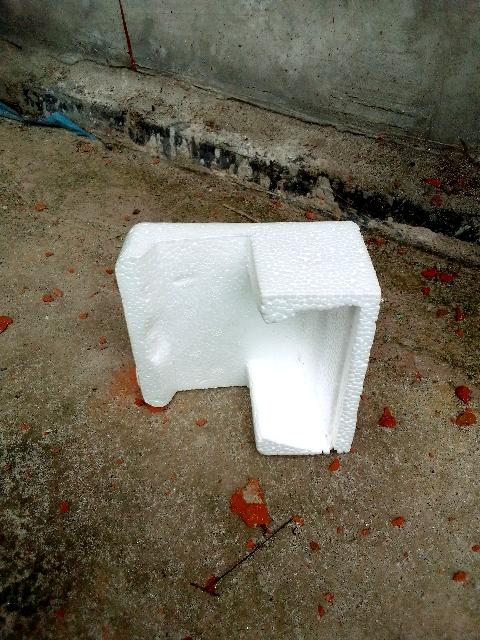cocksheet: (94, 188, 421, 500)
